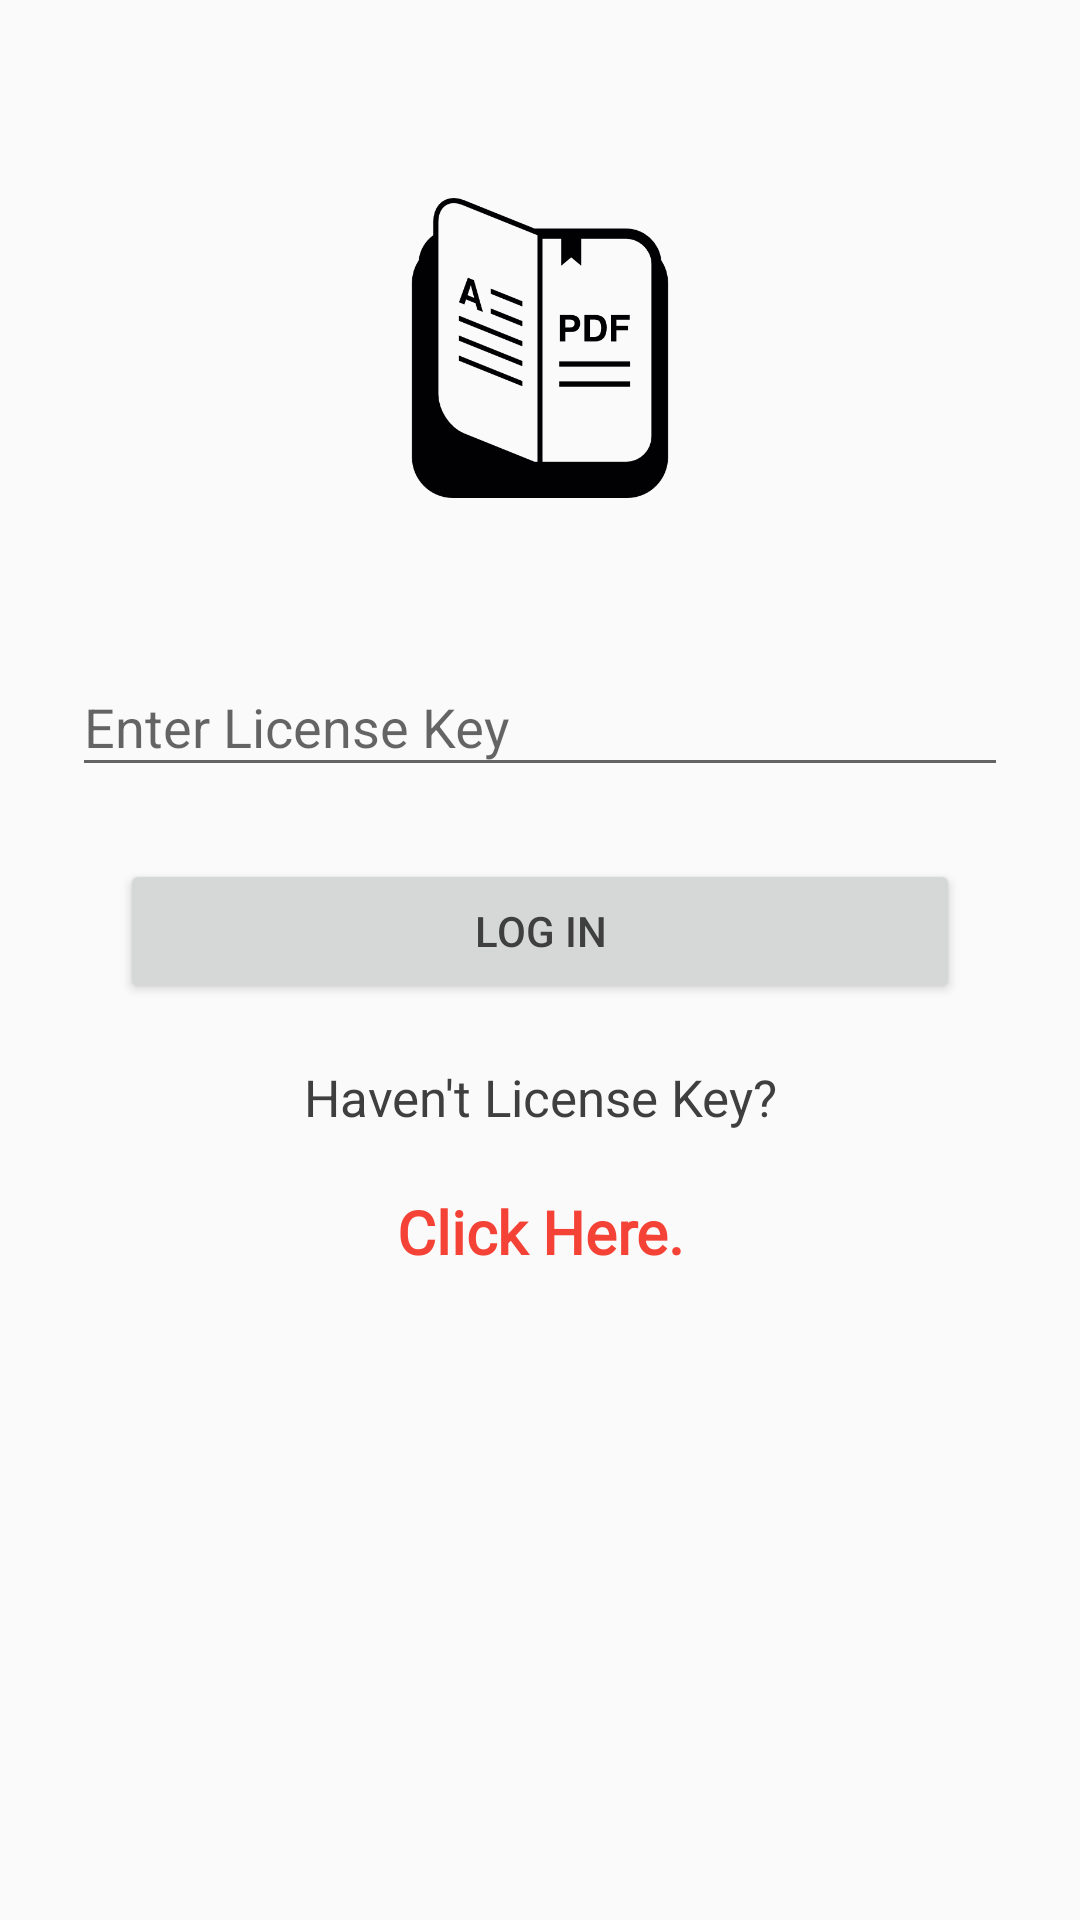

Point at icon controls on the screen. Image size 1080w x 1920h, points as point (x, y).
book: point (540, 348)
